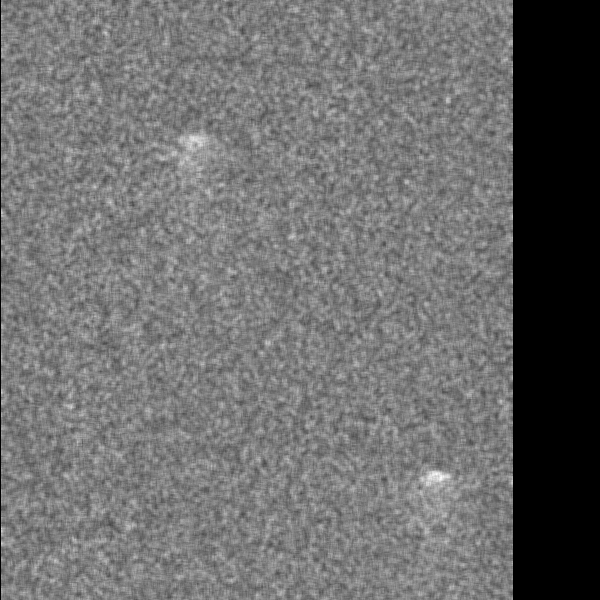spark: (165, 127, 224, 181), (6, 78, 40, 105), (414, 472, 459, 492)
